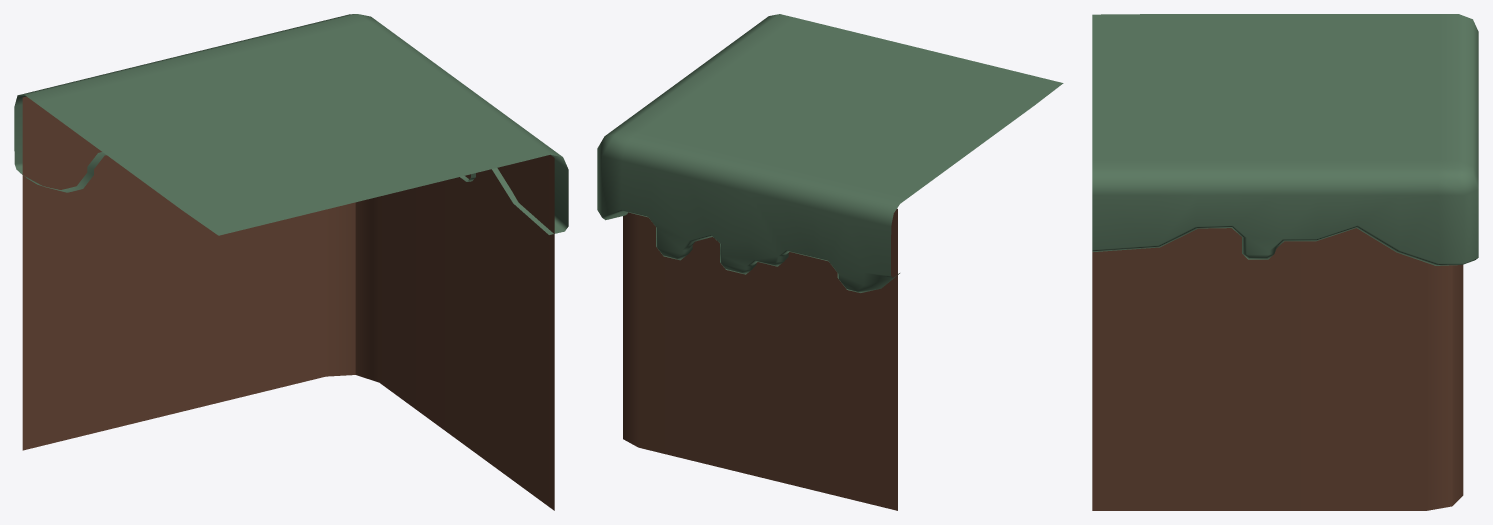
The model's file is Esquina_grass_2.fbx.
3 views of the same model, side by side, from view 1: azimuth 30°, elevation 25°; view 2: azimuth 150°, elevation 25°; view 3: azimuth 270°, elevation 25° (orthographic). The views are drawn at different scales.
Parts seen in each view (by area): view 1: pCube11, polySurface7; view 2: polySurface7, pCube11; view 3: pCube11, polySurface7.
Part boxes in pixels (box(x1,y1,x2,y2)): pCube11: box(22, 96, 554, 510); polySurface7: box(14, 14, 568, 235); polySurface7: box(597, 14, 1063, 292); pCube11: box(623, 208, 897, 510); pCube11: box(1092, 228, 1463, 510); polySurface7: box(1092, 14, 1478, 265).
Size of the model in its own units: 1.04 by 1.01 by 1.04.
